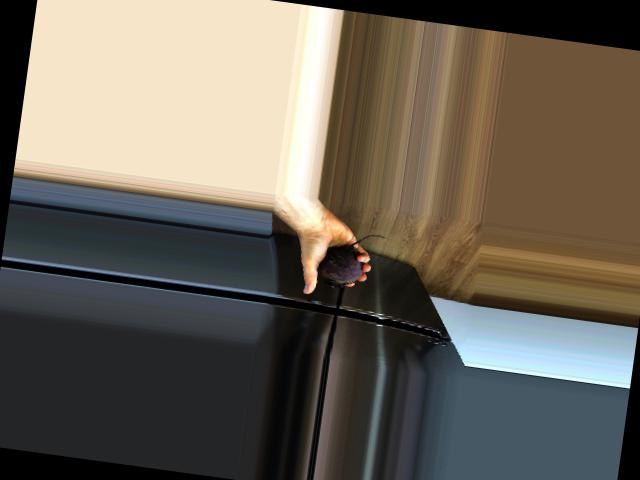beet: (316, 228, 387, 293)
